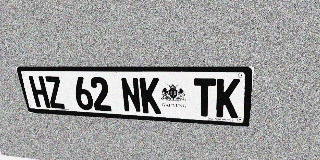2: (89, 77, 112, 111)
6: (72, 76, 94, 110)
H: (28, 76, 51, 108)
K: (216, 78, 240, 118), (139, 77, 161, 114)
N: (120, 77, 142, 113)
T: (194, 78, 216, 117)
Z: (43, 76, 66, 109)
